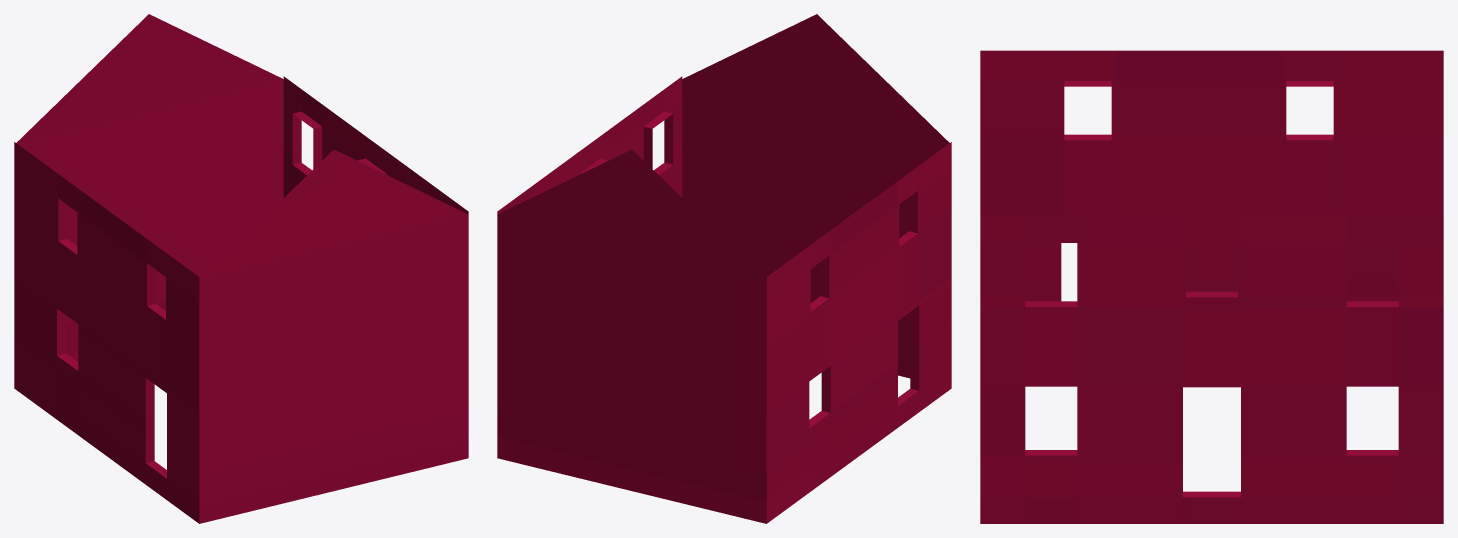
Rendered from SM_Bld_106_Masonry.glb.
The picture shows the model from 3 angles, left to right: view 1: azimuth 30°, elevation 25°; view 2: azimuth 150°, elevation 25°; view 3: azimuth 270°, elevation 25°; orthographic projection. The views are drawn at different scales.
Parts seen in each view (by area): view 1: SM_Bld_106_Masonry; view 2: SM_Bld_106_Masonry; view 3: SM_Bld_106_Masonry.
Part boxes in pixels (x1,y1,x2,y2): SM_Bld_106_Masonry: [14, 14, 468, 523]; SM_Bld_106_Masonry: [497, 14, 951, 523]; SM_Bld_106_Masonry: [980, 50, 1443, 523].
Size of the model in its own units: 6.59 by 7.99 by 7.84.
